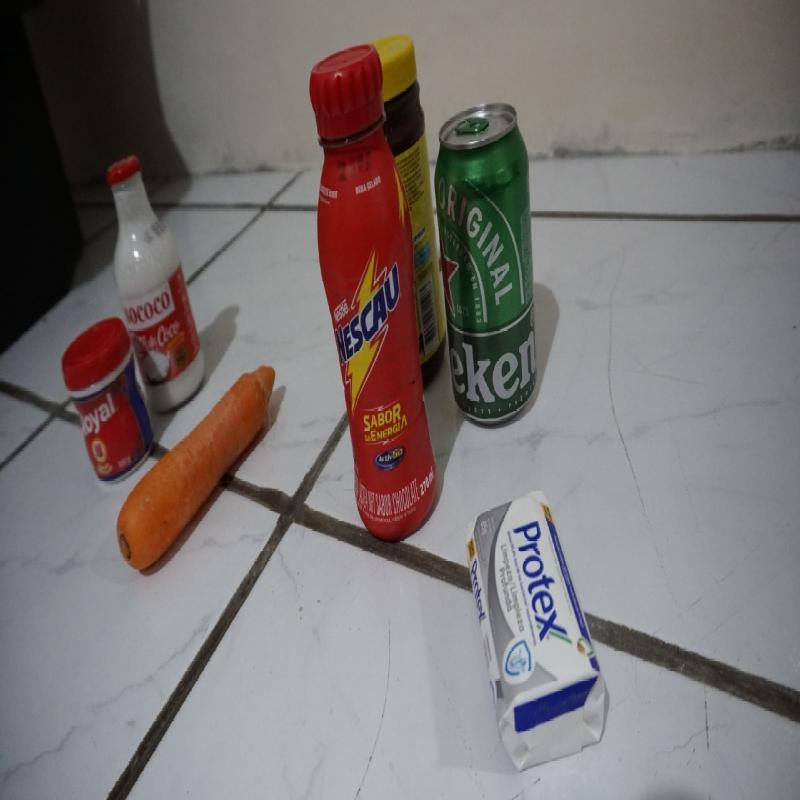Beer can: (437, 99, 539, 414)
Carrot: (123, 378, 275, 562)
Chocolate Milk: (319, 33, 390, 564)
Chocolate Powder: (380, 35, 440, 192)
Coconut Milk: (112, 166, 209, 389)
Soap: (467, 494, 615, 764)
Yeast: (56, 316, 148, 468)
